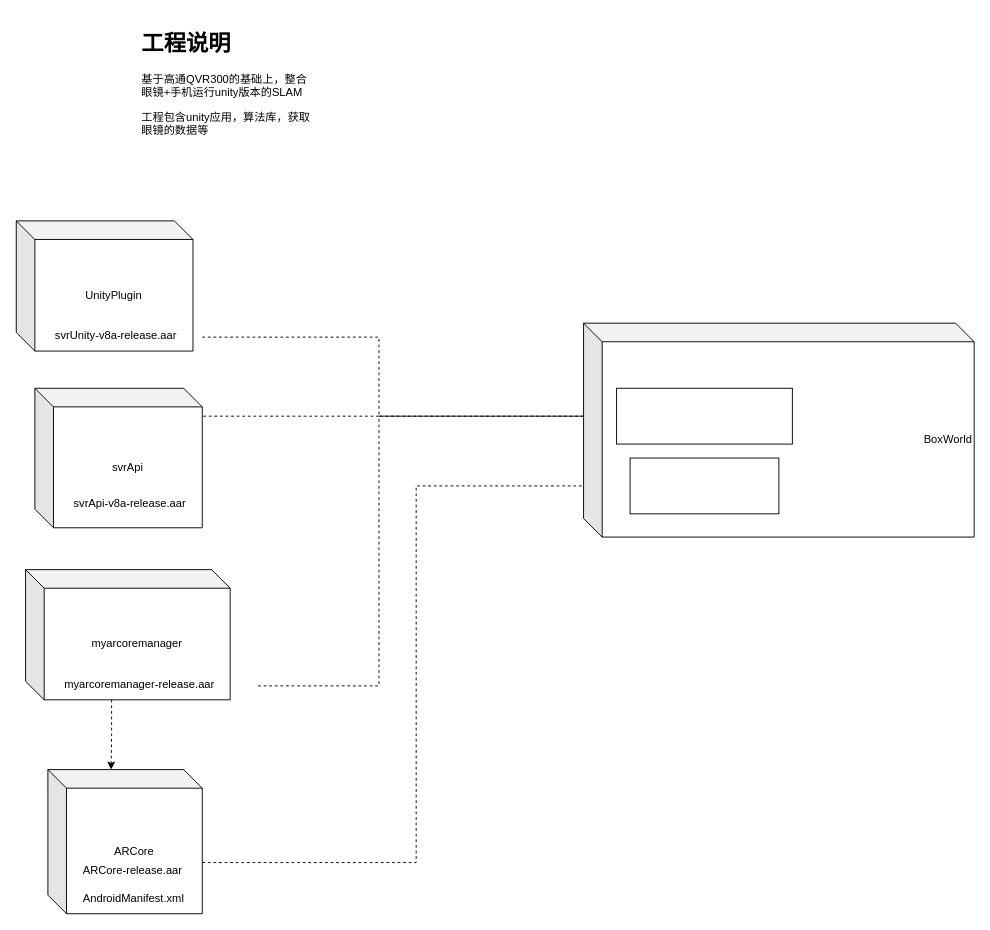
The diagram is 990 pixels wide and 930 high, and some of its shapes have lost their labels. The shapes that lost their labels are listed below. From the top down, each one's centre as x and y in pixels, then its label:
point (704, 415): Assets\SVR\Plugins\Android
point (704, 485): Assets\Plugins\Android
